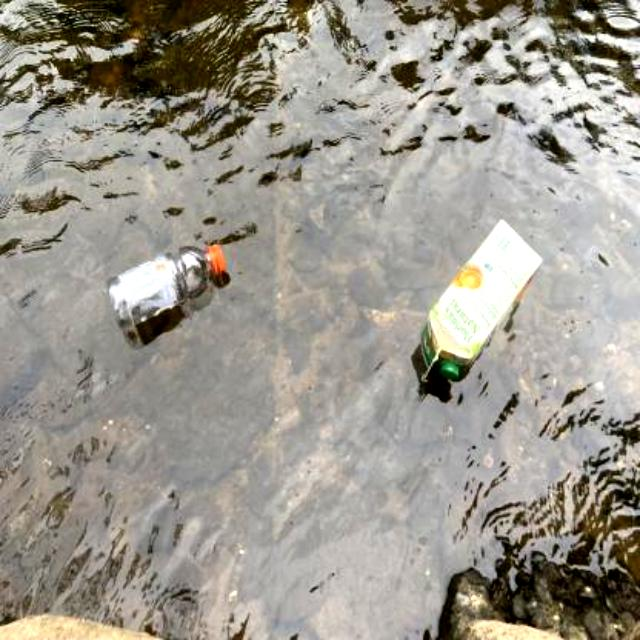Cardboard: (404, 214, 548, 400)
Plastic: (104, 238, 230, 342)
